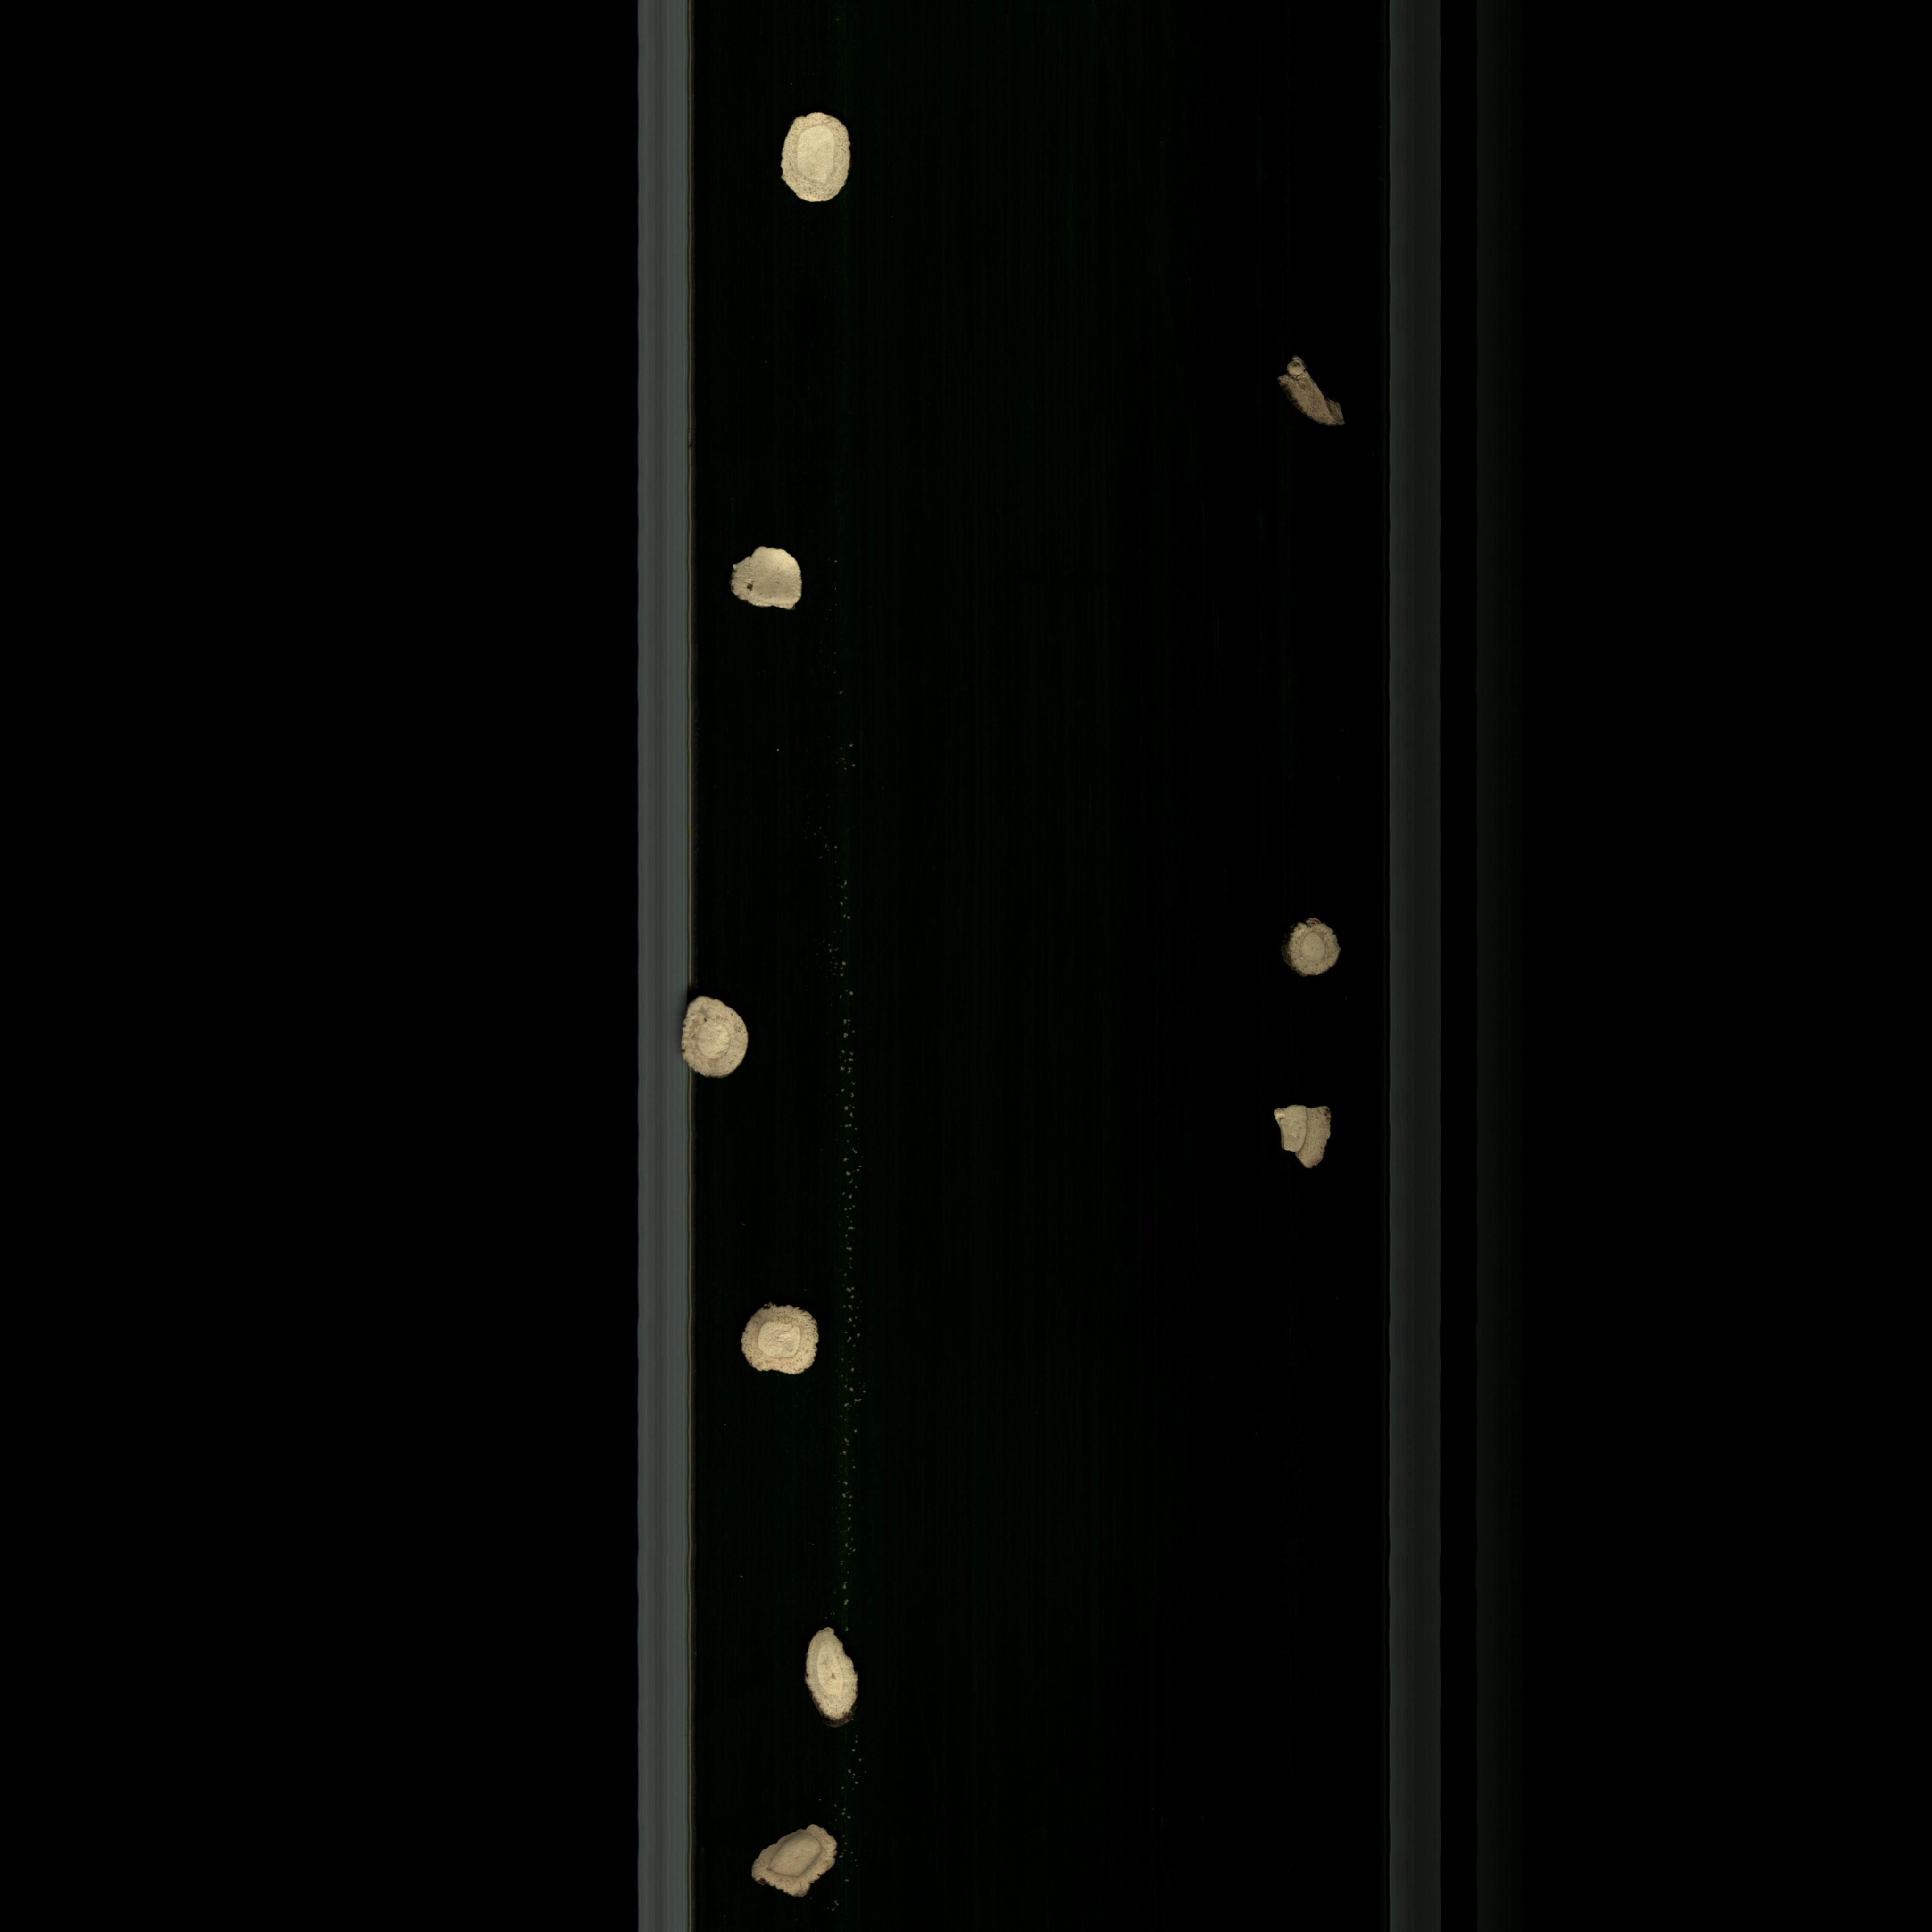debris: (718, 541, 819, 626)
distortion: (789, 1621, 876, 1732)
dreg: (1260, 1092, 1346, 1184)
moldy: (748, 1819, 846, 1904), (1269, 345, 1353, 435)
